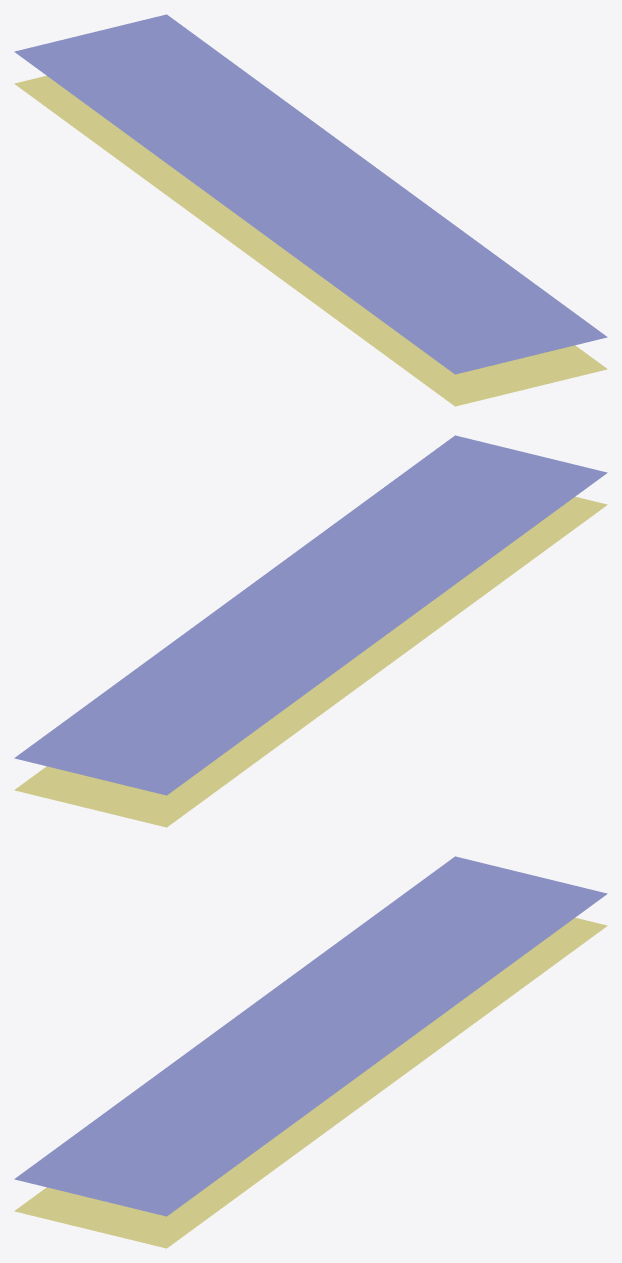
File: In_1x5_Floor.FBX
The picture shows the model from 3 angles, top to bottom: view 1: azimuth 30°, elevation 25°; view 2: azimuth 150°, elevation 25°; view 3: azimuth 330°, elevation 25°; orthographic projection.
Parts seen in each view (by area): view 1: In_1x5_Floor; view 2: In_1x5_Floor; view 3: In_1x5_Floor.
Part boxes in pixels (<box>): In_1x5_Floor: <box>14,14,607,406</box>; In_1x5_Floor: <box>14,435,607,827</box>; In_1x5_Floor: <box>14,856,607,1248</box>.
Bounding box in the file's own units: 100 × 20 × 500.
